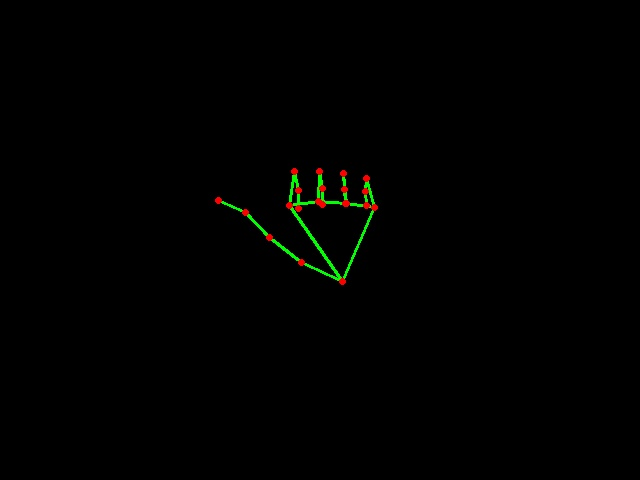right: (205, 154, 391, 293)
